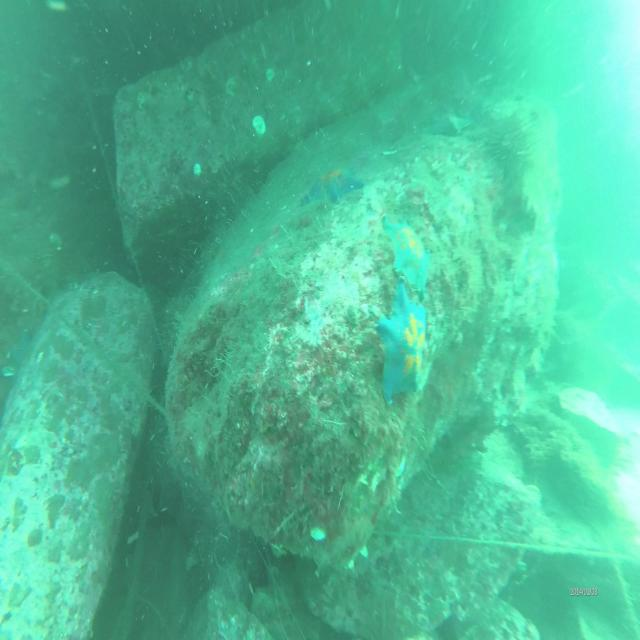starfish: (373, 278, 428, 401), (382, 211, 430, 301), (299, 162, 362, 206), (428, 109, 477, 143)
